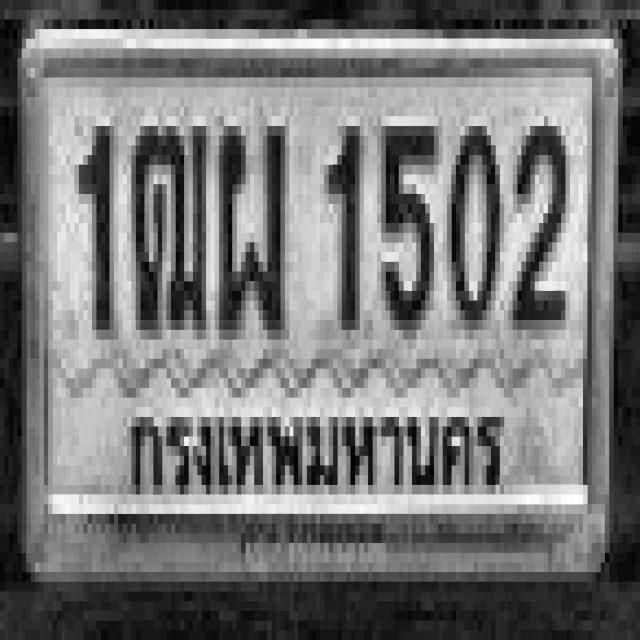license-plate: (19, 27, 612, 585)
